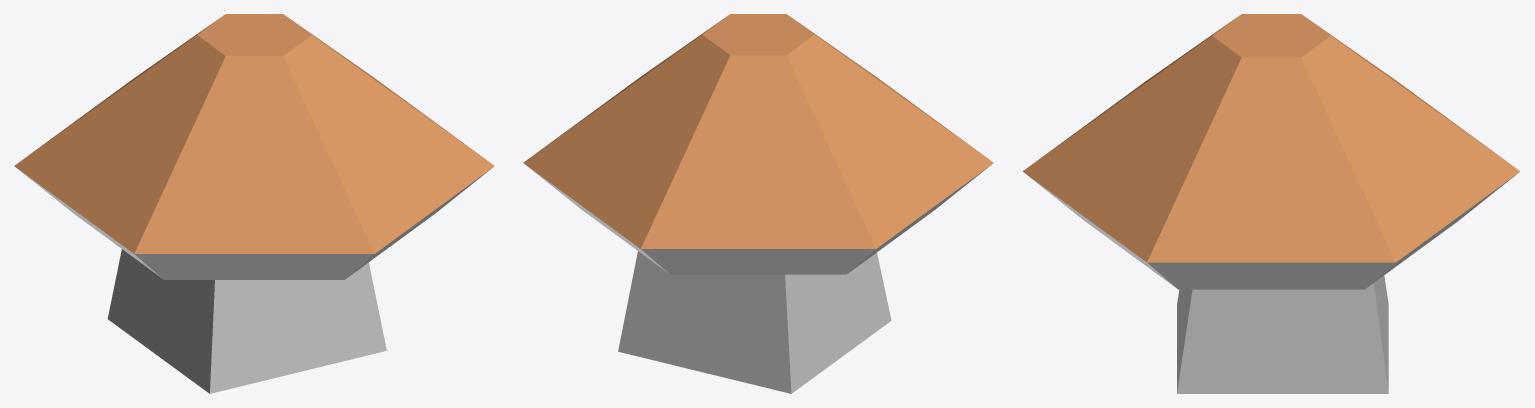
The model's file is mushroom_tan.glb.
3 renders of one model, left to right at view 1: azimuth 30°, elevation 25°; view 2: azimuth 150°, elevation 25°; view 3: azimuth 270°, elevation 25°, orthographic. The views are drawn at different scales.
Visible parts, largest first — view 1: mushroom_tan; view 2: mushroom_tan; view 3: mushroom_tan.
Part boxes in pixels (bbox=[...]): mushroom_tan: bbox=[14, 14, 494, 393]; mushroom_tan: bbox=[523, 14, 993, 393]; mushroom_tan: bbox=[1023, 14, 1519, 393].
Bounding box in the file's own units: 0.1914 × 0.1539 × 0.221.
